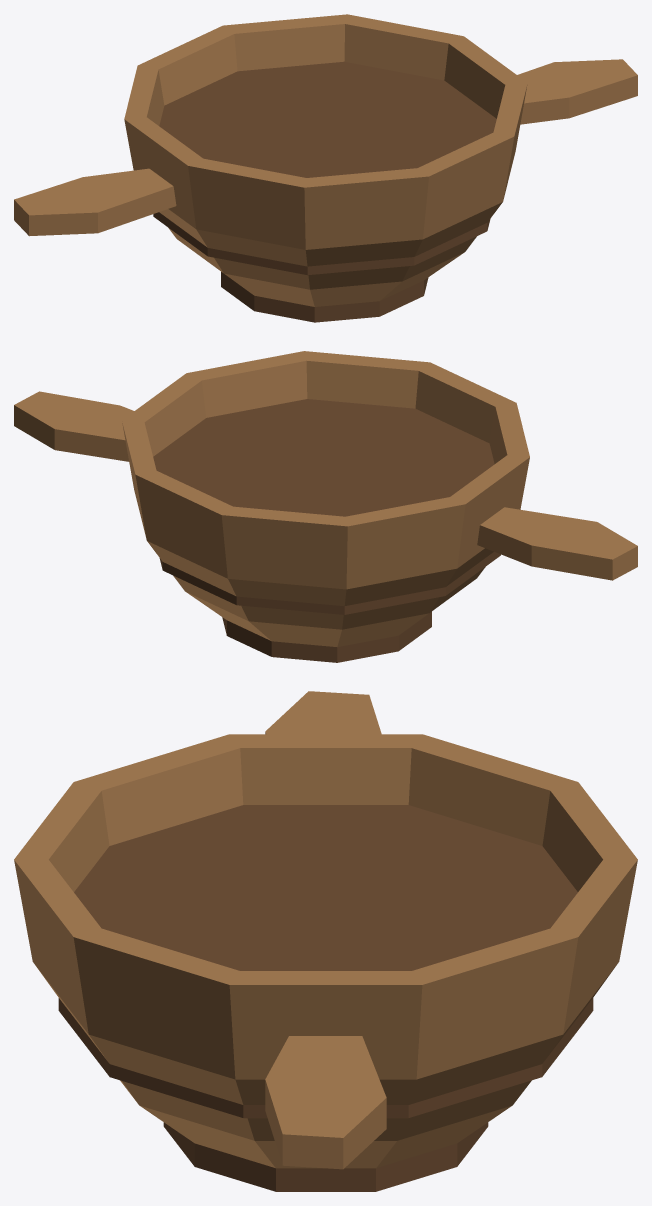
Rendered from mdvl_food_bowl_01.glb.
3 renders of one model, top to bottom at view 1: azimuth 30°, elevation 25°; view 2: azimuth 150°, elevation 25°; view 3: azimuth 270°, elevation 25°, orthographic. The views are drawn at different scales.
Visible parts, largest first — view 1: mdvl_food_bowl_01; view 2: mdvl_food_bowl_01; view 3: mdvl_food_bowl_01.
Boxes of the visible parts, bbox=[...] form: mdvl_food_bowl_01: bbox=[14, 14, 637, 322]; mdvl_food_bowl_01: bbox=[14, 351, 637, 662]; mdvl_food_bowl_01: bbox=[14, 691, 637, 1191].
Bounding box in the file's own units: 0.244 × 0.068 × 0.144.
1 material, 1 textured.
